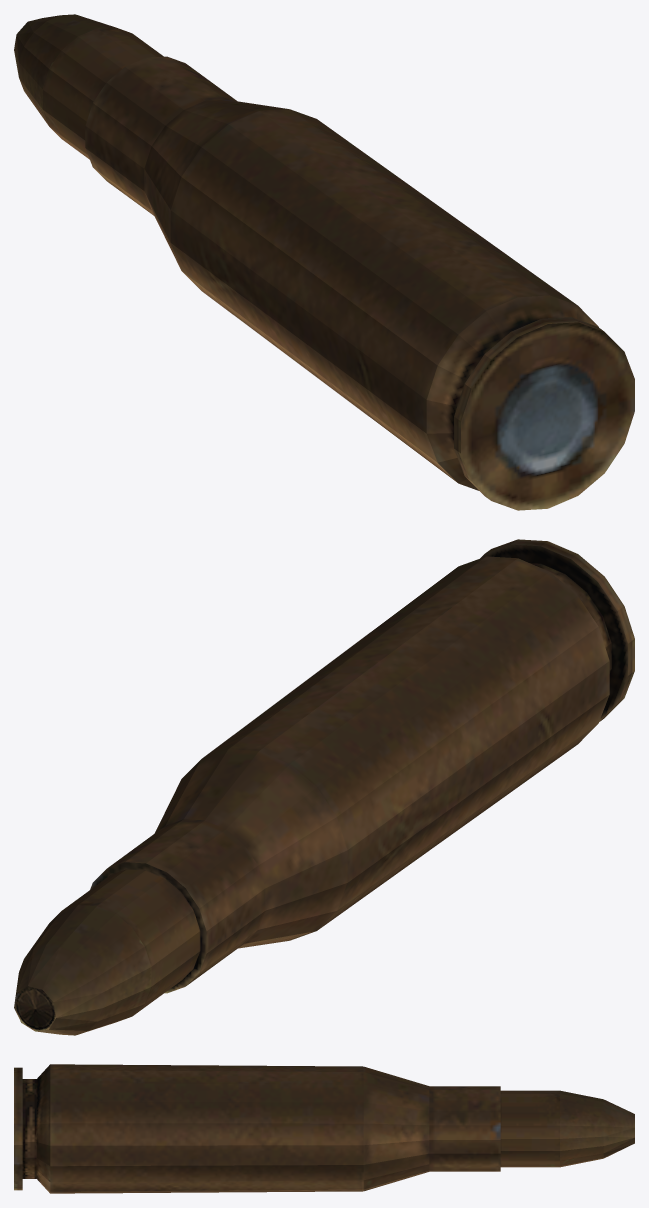
3 views of the same model, one above another, from view 1: azimuth 30°, elevation 25°; view 2: azimuth 150°, elevation 25°; view 3: azimuth 270°, elevation 25° (orthographic). The views are drawn at different scales.
Visible parts, largest first — view 1: TW_5ba26812d4351e003201fef1_PZ_Import; view 2: TW_5ba26812d4351e003201fef1_PZ_Import; view 3: TW_5ba26812d4351e003201fef1_PZ_Import.
Part boxes in pixels (x1,y1,x2,y2): TW_5ba26812d4351e003201fef1_PZ_Import: (14,14,634,510); TW_5ba26812d4351e003201fef1_PZ_Import: (14,539,634,1035); TW_5ba26812d4351e003201fef1_PZ_Import: (14,1064,634,1193).
Bounding box in the file's own units: 0.00447 × 0.0217 × 0.00454.
Materials: 1 (1 with a texture image).
